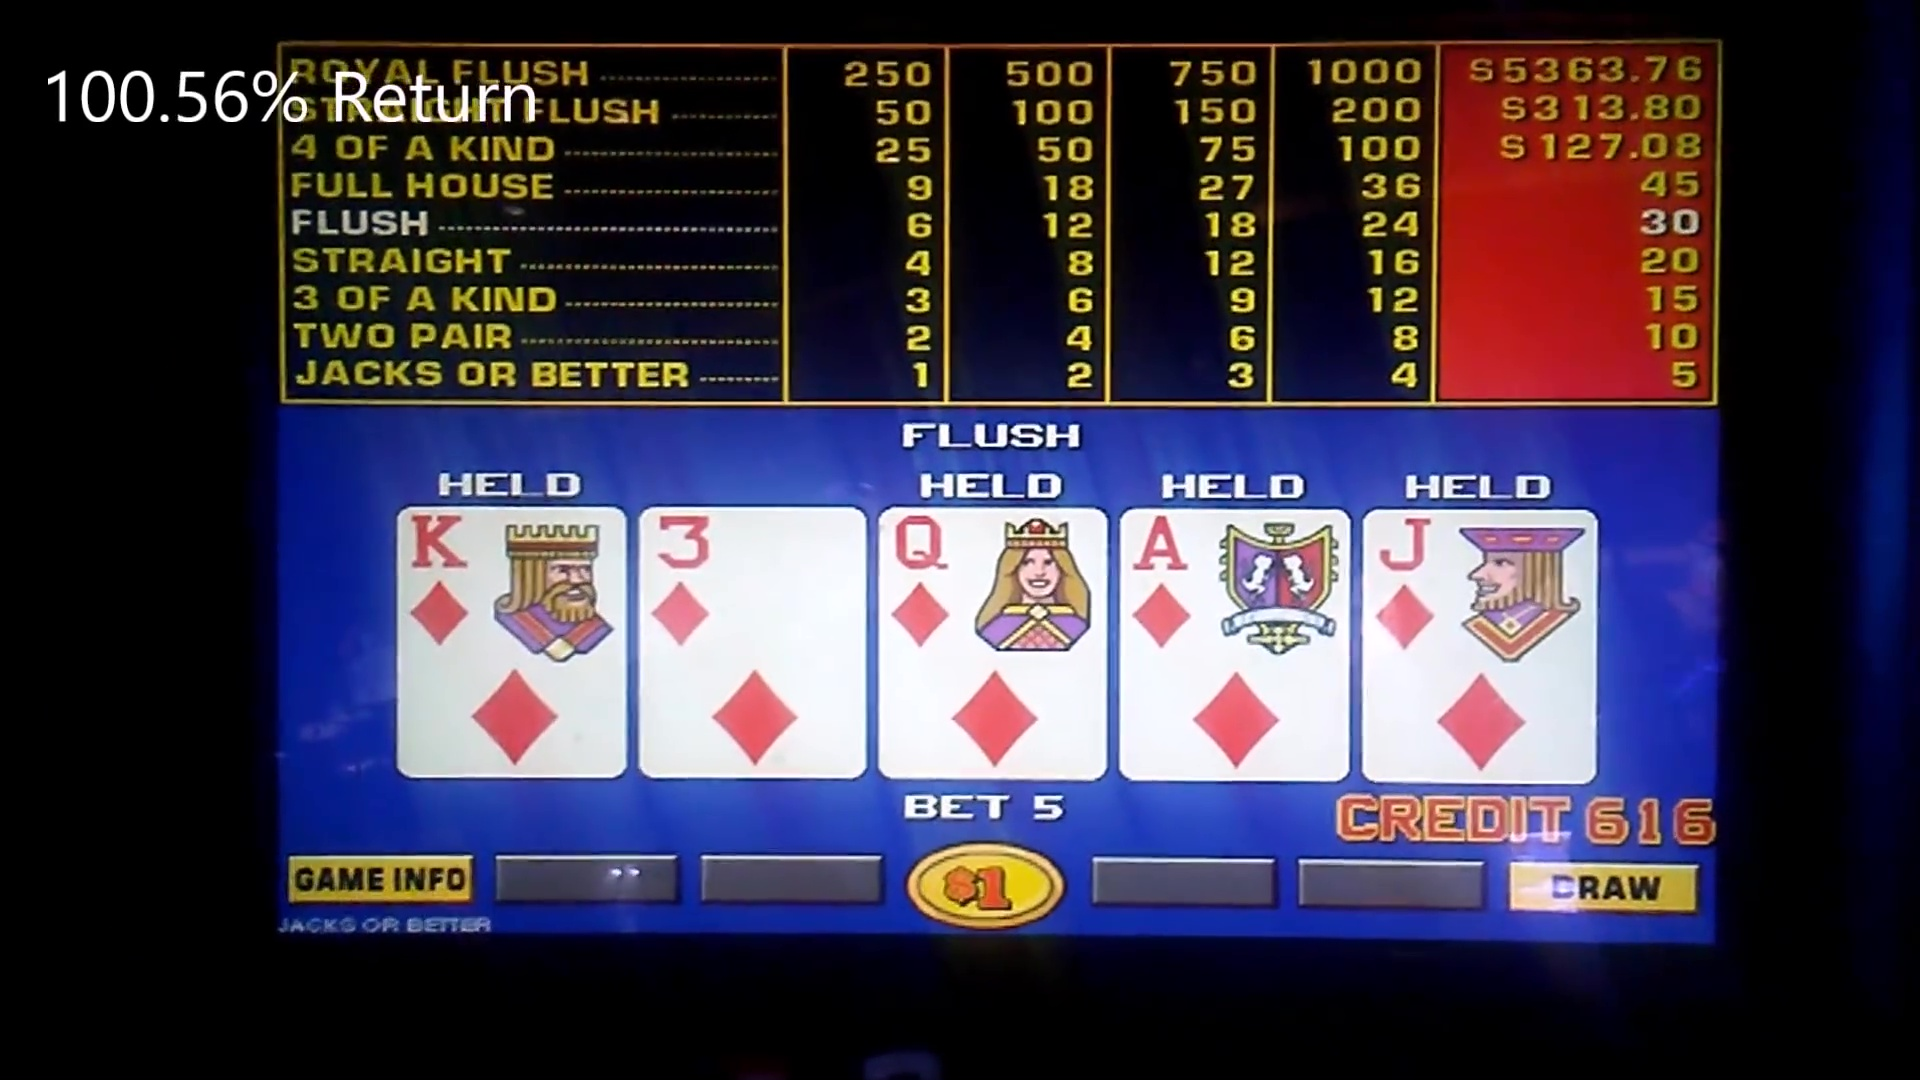D3: (637, 509, 869, 657)
DA: (1117, 509, 1352, 658)
DJ: (1361, 510, 1596, 659)
DK: (404, 506, 628, 653)
DQ: (880, 506, 1109, 655)
